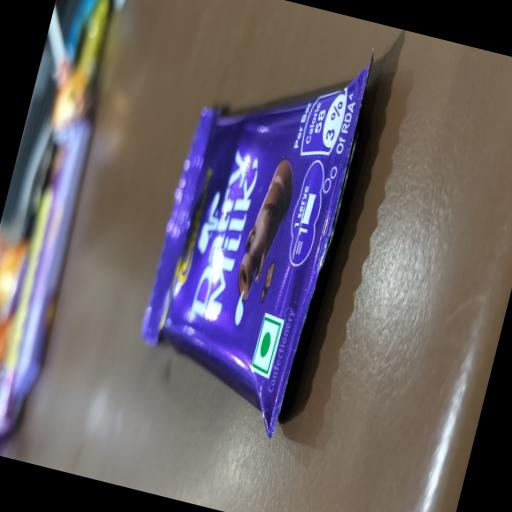chocolate: (116, 28, 382, 429)
dairy-Milk: (172, 126, 272, 349)
